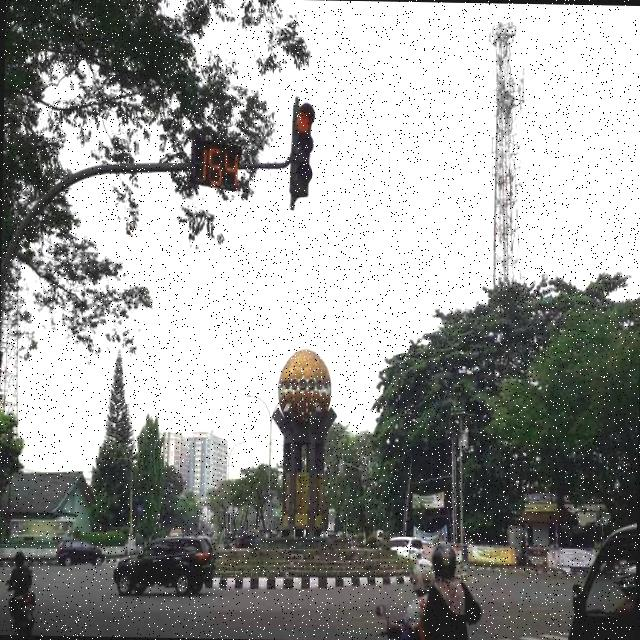Czerwone swiatlo: (288, 102, 312, 198)
